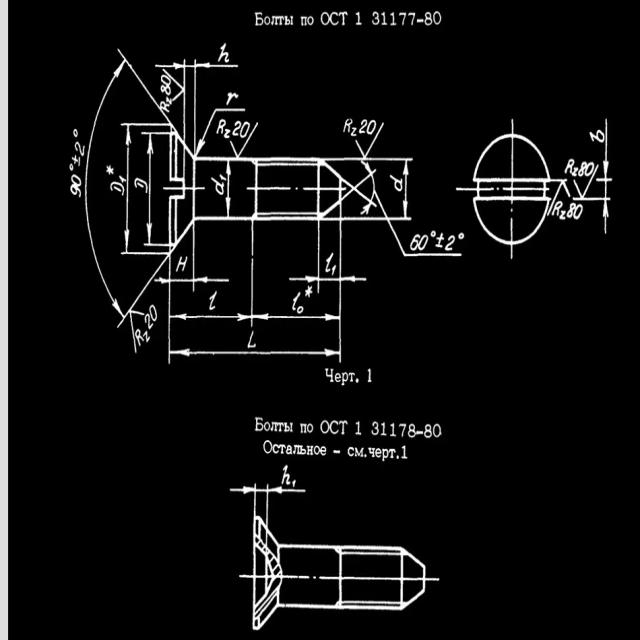marking_line: (67, 51, 170, 346), (168, 257, 343, 364), (249, 220, 343, 328), (552, 119, 611, 234), (121, 122, 168, 258), (169, 257, 254, 329), (286, 221, 367, 295), (153, 61, 238, 120), (354, 158, 413, 219), (141, 130, 170, 248), (154, 58, 202, 126), (156, 257, 229, 293), (197, 106, 248, 157), (230, 484, 308, 515), (225, 163, 231, 218)
numeric: (588, 126, 605, 144), (217, 43, 230, 63), (389, 173, 403, 191), (211, 178, 224, 196), (176, 255, 189, 273), (563, 157, 575, 175), (281, 465, 291, 486), (226, 91, 239, 106), (444, 235, 455, 252), (247, 331, 257, 349), (291, 292, 301, 310), (411, 233, 421, 251), (552, 200, 563, 216), (584, 161, 595, 177), (149, 304, 158, 323), (232, 120, 242, 137), (240, 120, 250, 137), (216, 119, 227, 134), (423, 423, 433, 439), (209, 291, 217, 311), (419, 235, 429, 251), (134, 329, 143, 346), (144, 313, 153, 329), (70, 185, 81, 198), (75, 141, 85, 155), (567, 203, 577, 217), (433, 423, 442, 438), (574, 204, 583, 219), (408, 423, 416, 439), (389, 423, 397, 439), (371, 421, 379, 437), (355, 420, 363, 436), (71, 173, 81, 185), (424, 12, 432, 27), (578, 162, 585, 178), (399, 12, 407, 26), (433, 11, 441, 25), (159, 101, 169, 112), (159, 85, 171, 94), (356, 11, 363, 26), (399, 424, 407, 437), (380, 422, 387, 436), (408, 13, 415, 27), (401, 445, 407, 461), (372, 12, 379, 25), (161, 75, 171, 84), (142, 331, 150, 342), (381, 11, 387, 25), (223, 128, 231, 138), (390, 13, 396, 26), (560, 209, 566, 221), (331, 264, 337, 275), (219, 173, 226, 182), (368, 368, 372, 383), (166, 96, 173, 104), (291, 479, 297, 488), (297, 306, 303, 314), (573, 167, 578, 176)
special_symbol: (128, 307, 147, 354), (354, 139, 376, 157), (229, 139, 250, 157), (367, 118, 377, 135), (436, 233, 445, 249), (304, 285, 314, 299), (360, 119, 368, 135), (71, 155, 82, 166), (73, 128, 79, 138), (68, 162, 74, 171), (416, 17, 425, 23), (458, 232, 465, 239), (430, 230, 436, 237)
